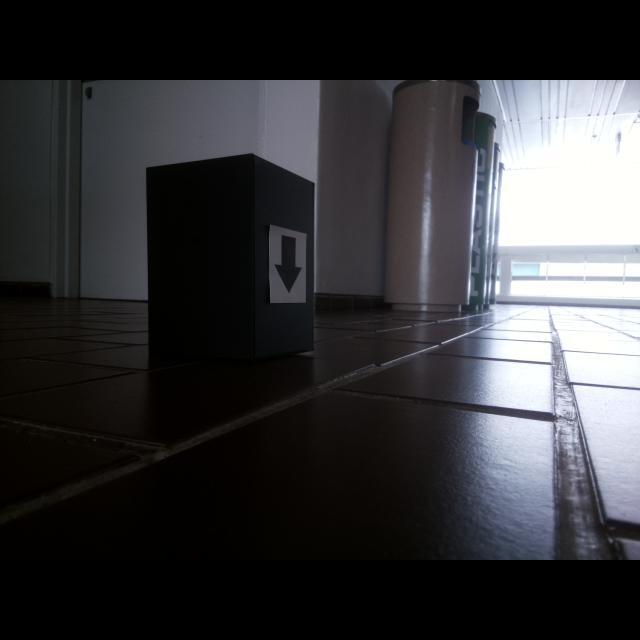DOWN: (272, 234, 305, 296)
